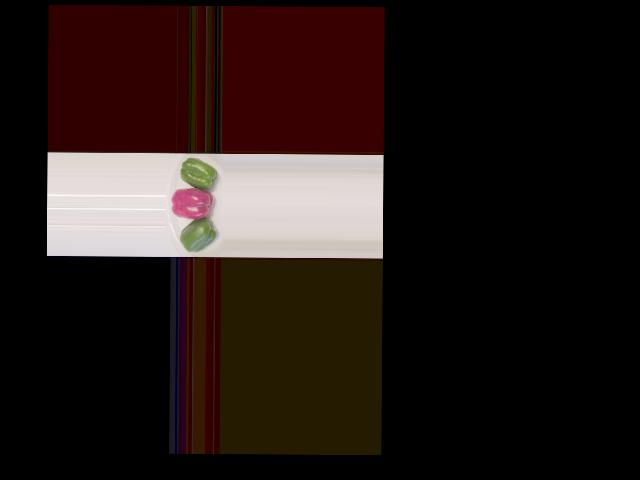bell_pepper: (175, 217, 220, 254)
